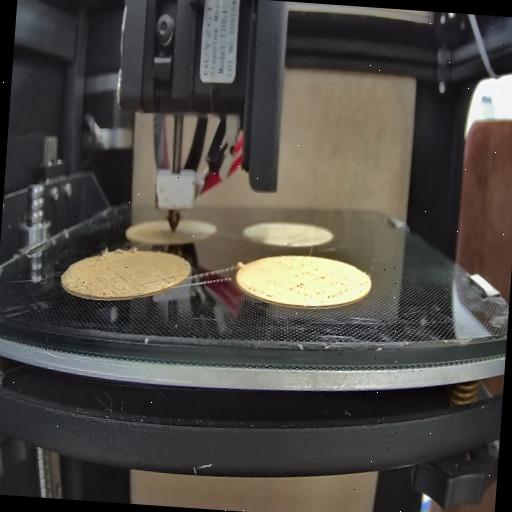under_extrusion: (285, 264, 353, 308), (76, 262, 132, 300), (140, 270, 182, 293), (246, 279, 276, 298)
